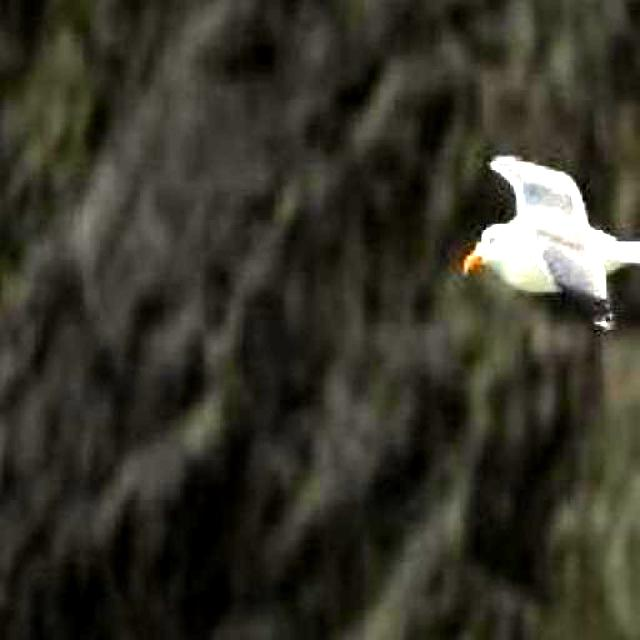airplane: (464, 151, 640, 332)
